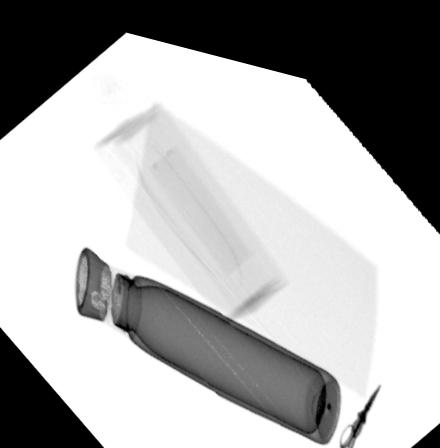Scissors: (337, 365, 380, 443)
